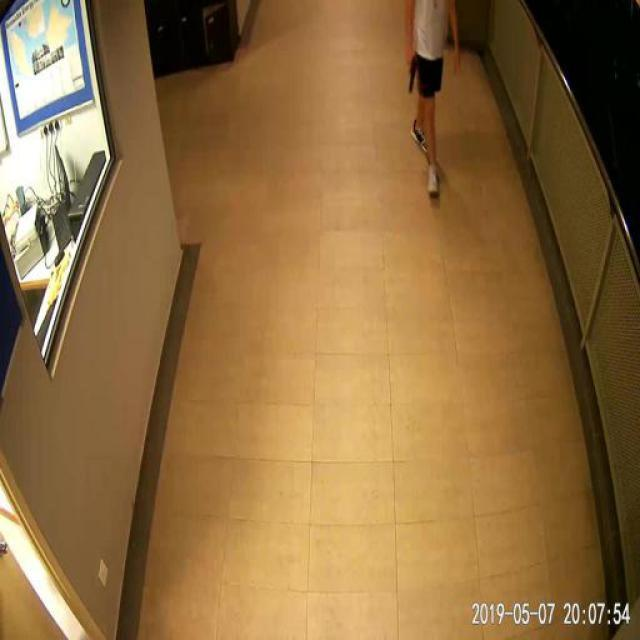weapon: (408, 54, 418, 93)
